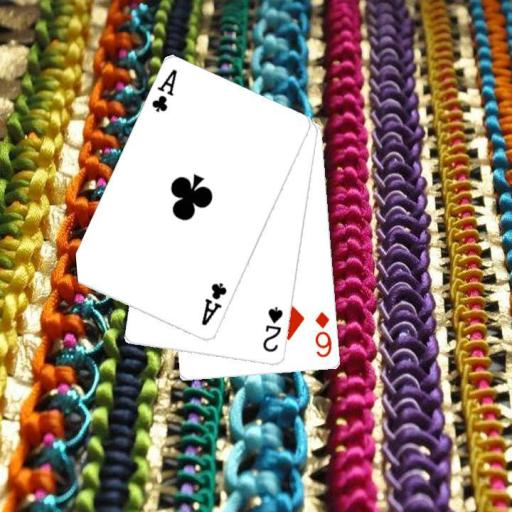2S: (260, 304, 285, 354)
6D: (312, 309, 334, 360)
AC: (198, 279, 229, 328), (149, 66, 179, 115)
